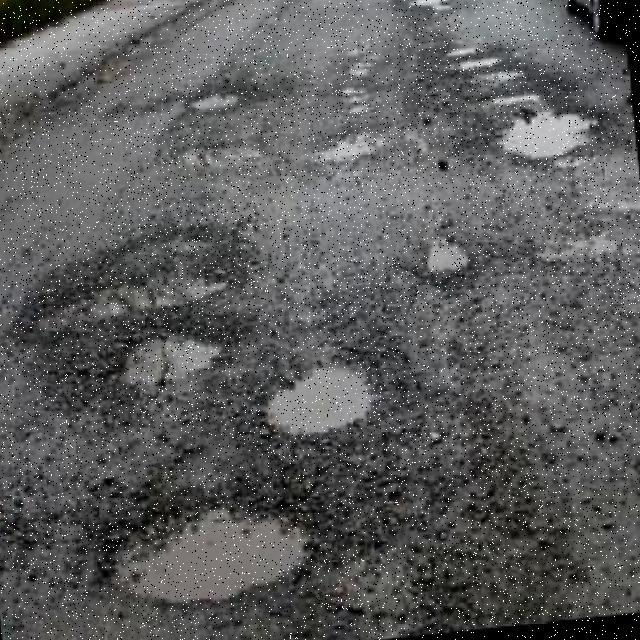pothole: (116, 510, 308, 605), (45, 267, 229, 328), (265, 364, 375, 441), (119, 336, 222, 388), (505, 114, 590, 159), (426, 241, 472, 280)
